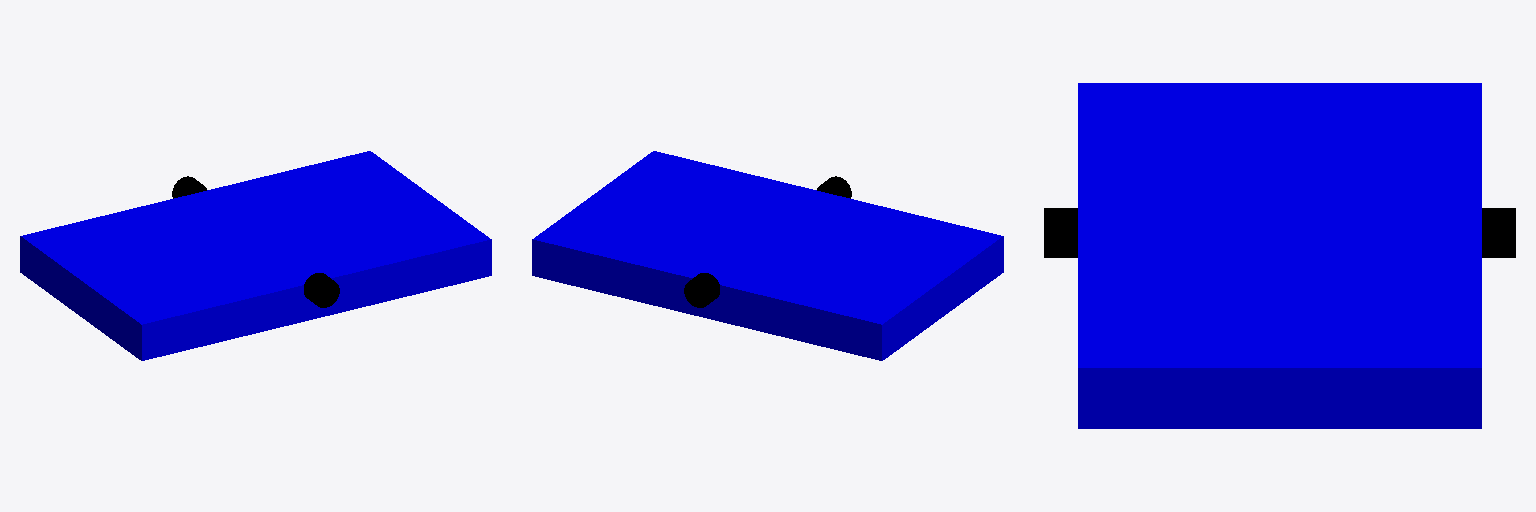
The robot description file, URDF, robot "debug_mobile_robot":
<?xml version="1.0"?>
<robot name="debug_mobile_robot">
  
  <!-- Base Link -->
  <link name="base_link">
    <inertial>
      <mass value="5.0"/>
      <inertia ixx="0.5" ixy="0.0" ixz="0.0" iyy="1.0" iyz="0.0" izz="1.2"/>
    </inertial>
    <visual>
      <geometry>
        <box size="1.0 0.6 0.1"/>
      </geometry>
      <material name="blue">
        <color rgba="0 0 1 1"/>
      </material>
    </visual>
    <collision>
      <geometry>
        <box size="1.0 0.6 0.1"/>
      </geometry>
    </collision>
  </link>

  <!-- Left Wheel -->
  <link name="leftWheelLink">
    <inertial>
      <mass value="2.0"/>
      <inertia ixx="0.02" ixy="0.0" ixz="0.0" iyy="0.02" iyz="0.0" izz="0.02"/>
    </inertial>
    <visual>
      <origin xyz="0 0 0" rpy="1.5708 0 0"/>
      <geometry>
        <cylinder radius="0.0375" length="0.05"/>
      </geometry>
      <material name="black">
        <color rgba="0 0 0 1"/>
      </material>
    </visual>
    <collision>
      <origin xyz="0 0 0" rpy="1.5708 0 0"/>
      <geometry>
        <cylinder radius="0.0375" length="0.05"/>
      </geometry>
    </collision>
  </link>

  <!-- Right Wheel -->
  <link name="rightWheelLink">
    <inertial>
      <mass value="2.0"/>
      <inertia ixx="0.02" ixy="0.0" ixz="0.0" iyy="0.02" iyz="0.0" izz="0.02"/>
    </inertial>
    <visual>
      <origin xyz="0 0 0" rpy="1.5708 0 0"/>
      <geometry>
        <cylinder radius="0.0375" length="0.05"/>
      </geometry>
      <material name="black">
        <color rgba="0 0 0 1"/>
      </material>
    </visual>
    <collision>
      <origin xyz="0 0 0" rpy="1.5708 0 0"/>
      <geometry>
        <cylinder radius="0.0375" length="0.05"/>
      </geometry>
    </collision>
  </link>

  <!-- Joints - Temel değerlerle -->
  <joint name="leftWheelJoint" type="continuous">
    <parent link="base_link"/>
    <child link="leftWheelLink"/>
    <origin xyz="0 0.325 0.0375" rpy="0 0 0"/>
    <axis xyz="0 1 0"/>
    <limit effort="100" velocity="10"/>
    <dynamics friction="0.1" damping="0.1"/>
  </joint>

  <joint name="rightWheelJoint" type="continuous">
    <parent link="base_link"/>
    <child link="rightWheelLink"/>
    <origin xyz="0 -0.325 0.0375" rpy="0 0 0"/>
    <axis xyz="0 1 0"/>
    <limit effort="100" velocity="10"/>
    <dynamics friction="0.1" damping="0.1"/>
  </joint>

  <!-- Gazebo Properties -->
  <gazebo reference="base_link">
    <material>Gazebo/Blue</material>
    <static>false</static>
  </gazebo>

  <gazebo reference="leftWheelLink">
    <material>Gazebo/Black</material>
    <mu1>1.0</mu1>
    <mu2>1.0</mu2>
    <static>false</static>
  </gazebo>

  <gazebo reference="rightWheelLink">
    <material>Gazebo/Black</material>
    <mu1>1.0</mu1>
    <mu2>1.0</mu2>
    <static>false</static>
  </gazebo>

  <!-- Essential Gazebo Plugins -->
  <gazebo>
    <plugin filename="gz-sim-physics-system" name="gz::sim::systems::Physics">
      <engine>
        <filename>gz-physics-dartsim-plugin</filename>
      </engine>
    </plugin>
  </gazebo>

  <gazebo>
    <plugin filename="gz-sim-scene-broadcaster-system" name="gz::sim::systems::SceneBroadcaster"/>
  </gazebo>

  <!-- Simplified DiffDrive Plugin -->
  <gazebo>
    <plugin filename="gz-sim-diff-drive-system" name="gz::sim::systems::DiffDrive">
      <left_joint>leftWheelJoint</left_joint>
      <right_joint>rightWheelJoint</right_joint>
      <wheel_separation>0.65</wheel_separation>
      <wheel_radius>0.0375</wheel_radius>
      <max_wheel_torque>50</max_wheel_torque>
      <max_wheel_acceleration>2.0</max_wheel_acceleration>
      <max_wheel_velocity>5.0</max_wheel_velocity>
      <topic>cmd_vel</topic>
      <odom_topic>odom</odom_topic>
      <frame_id>odom</frame_id>
      <child_frame_id>base_link</child_frame_id>
      <publish_odom_tf>true</publish_odom_tf>
    </plugin>
  </gazebo>

</robot>

--- What the picture shows (computed from the rendered views, not written in the file) ---
The picture shows the robot from 3 angles, left to right: view 1: azimuth 30°, elevation 25°; view 2: azimuth 150°, elevation 25°; view 3: azimuth 270°, elevation 25°; orthographic projection.
Model debug_mobile_robot with 3 links and 2 joints (2 continuous), rooted at base_link, posed all joints at 0.
Visible links, largest first — view 1: base_link, rightWheelLink; view 2: base_link, leftWheelLink; view 3: base_link, leftWheelLink, rightWheelLink.
Boxes of the visible links, x1,y1,x2,y2 form: base_link: (20,151,491,360); rightWheelLink: (304,273,339,307); base_link: (532,151,1003,360); leftWheelLink: (684,273,719,307); base_link: (1078,83,1481,428); leftWheelLink: (1482,208,1515,257); rightWheelLink: (1044,208,1077,257).
Size in the robot's own frame: 1 by 0.7 by 0.125 metres.
Geometry: primitives only (box / cylinder / sphere), no mesh files.